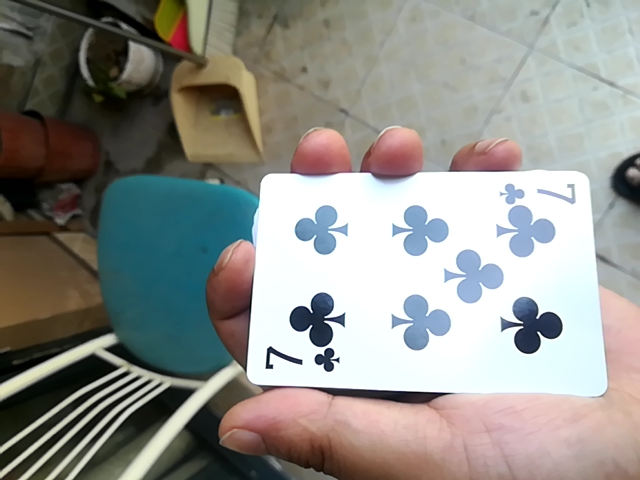mh 7: (242, 164, 604, 399)
